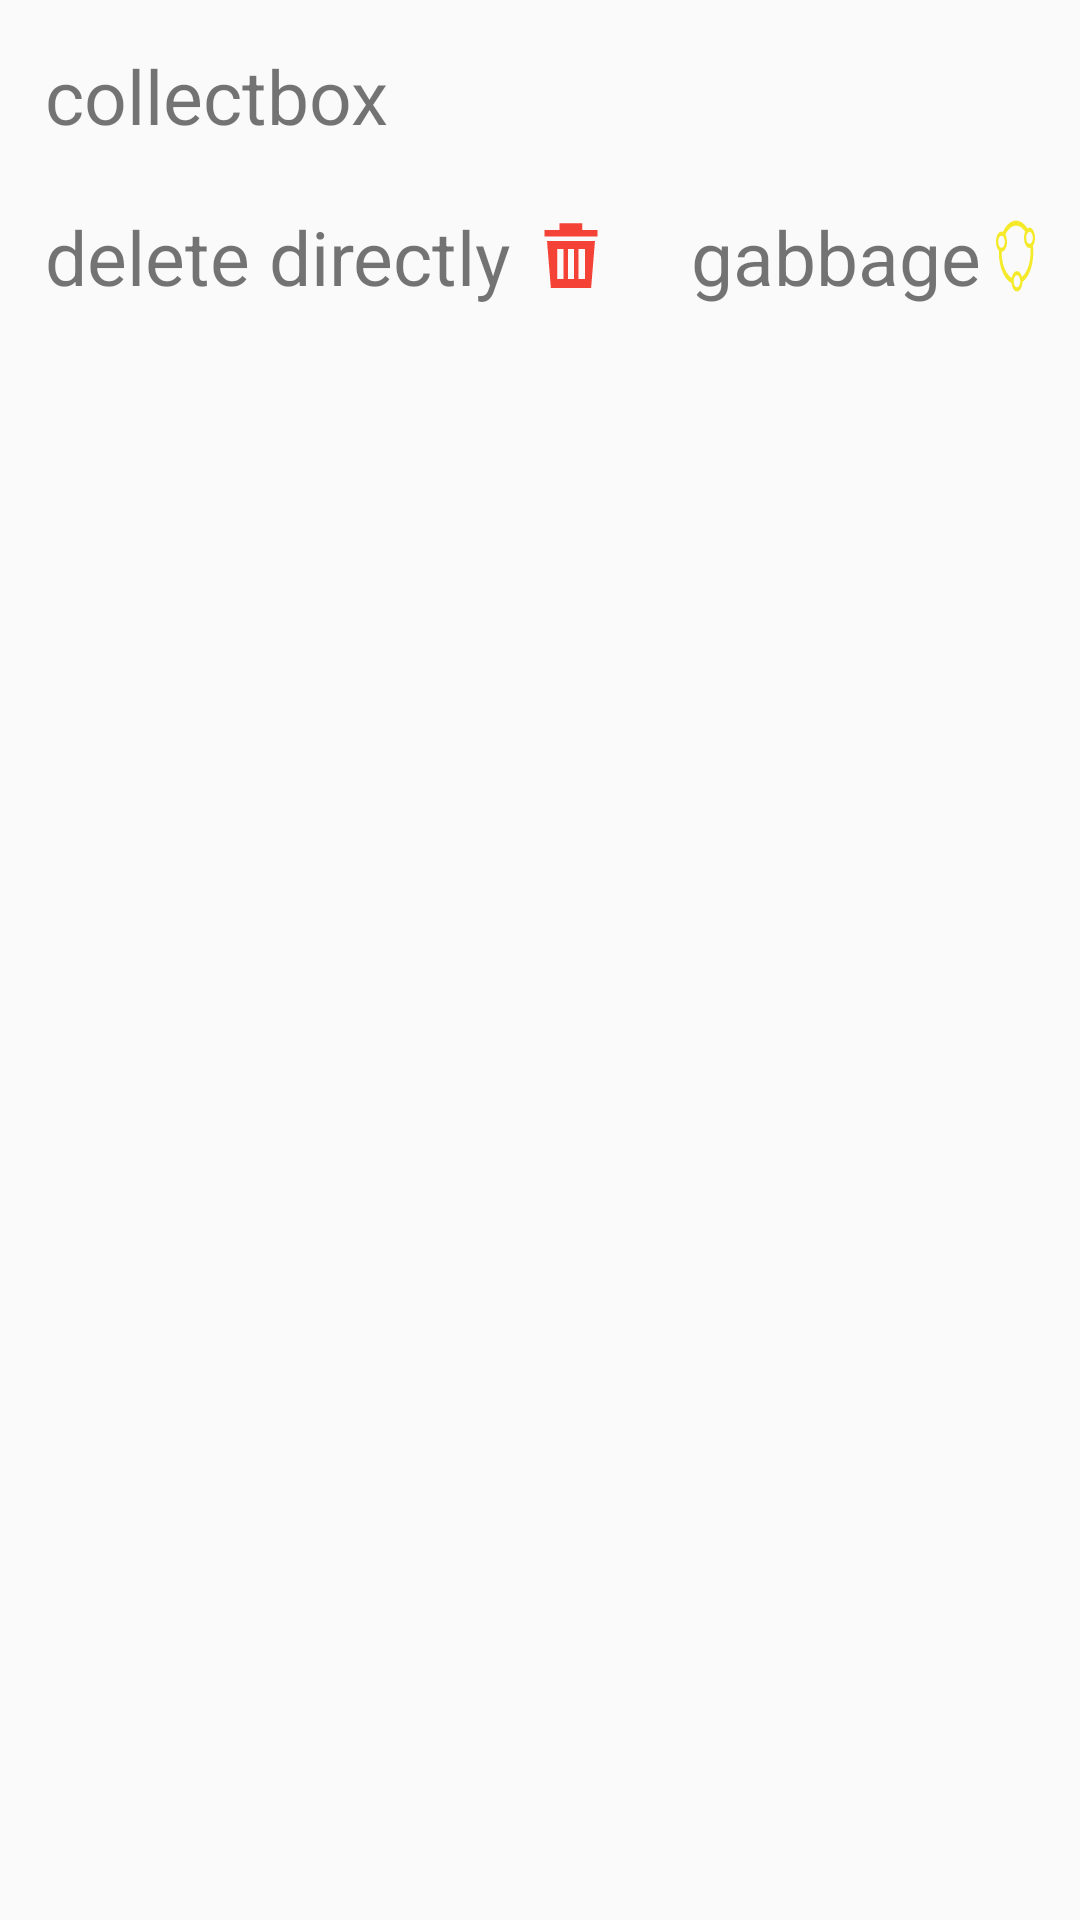

Screen size 1080×1920. Icon name, then its center in pixels as (x,y):
delete care: (571,255)
